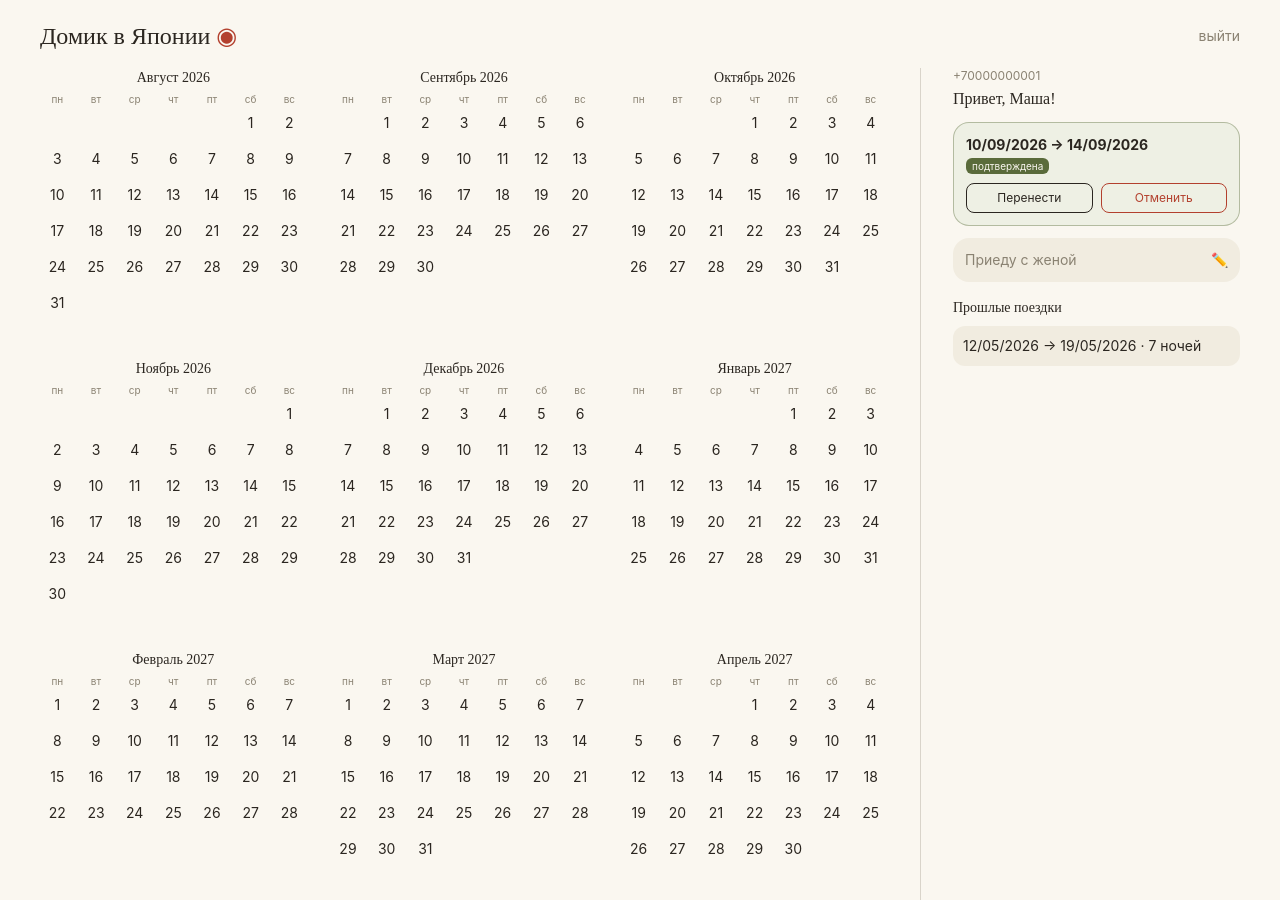
Scenario: отмена работает без кода — сразу подтверждение и запрос на удаление
Click the button "Отменить" at coordinates (1164, 198), box [1100,183,1227,213]
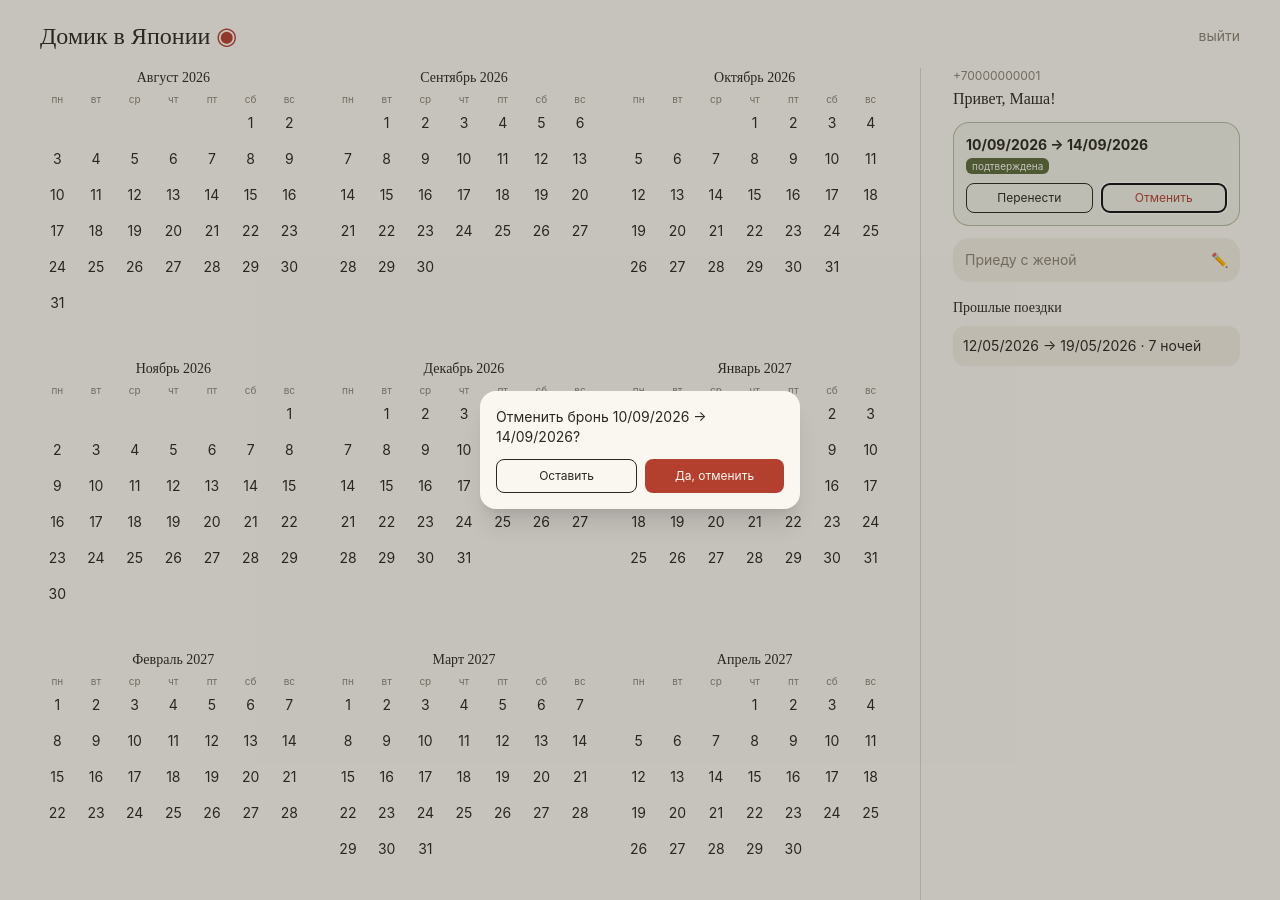
Click the button "Да, отменить" at coordinates (714, 476), box [645,459,784,493]
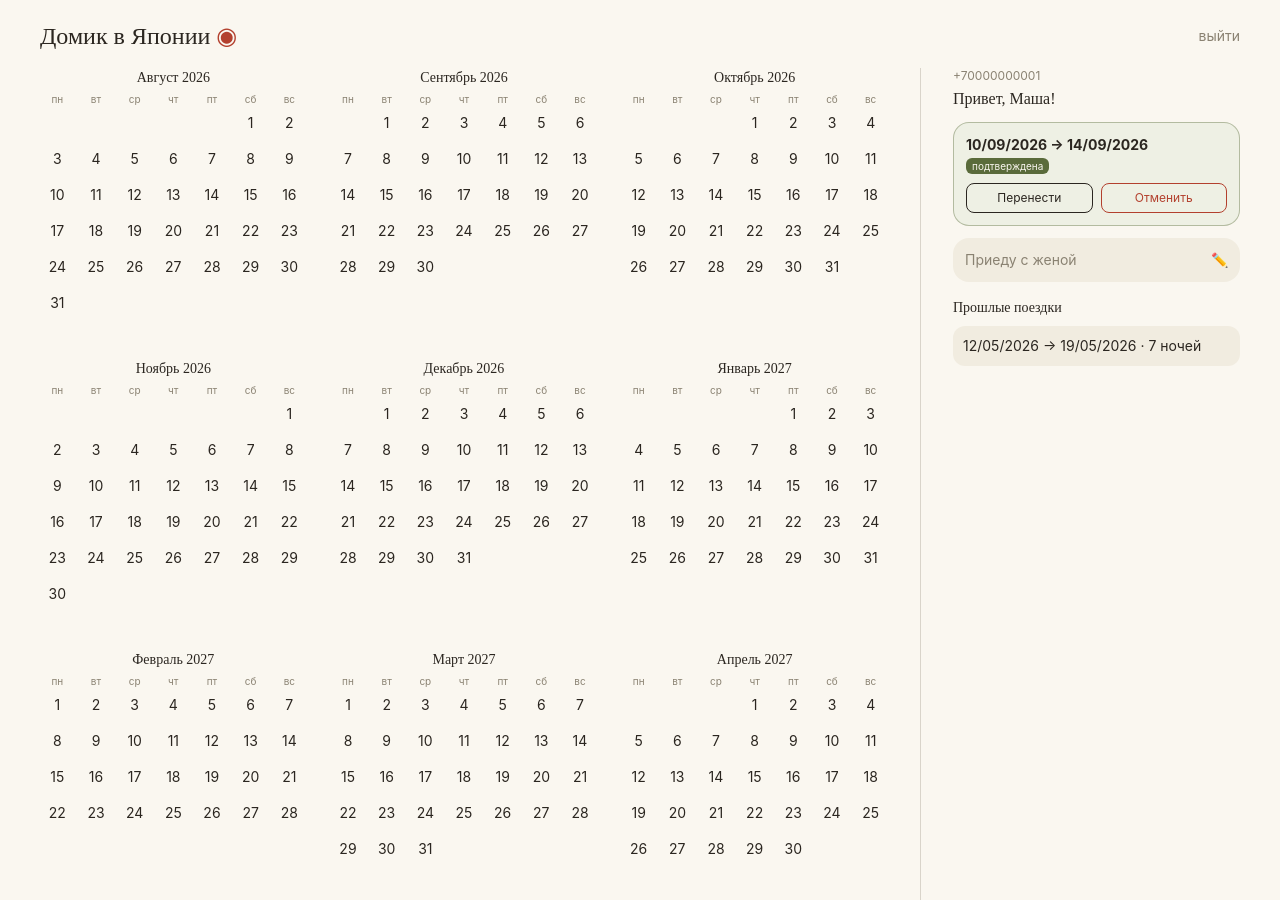
Expected: the text "Отменить бронь" is gone
